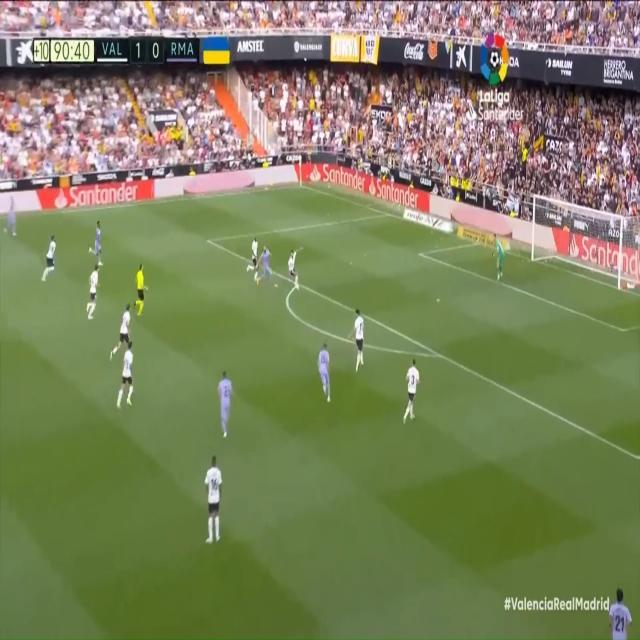goalkeeper: (492, 235, 505, 285)
player: (197, 449, 221, 543), (107, 297, 135, 365), (115, 341, 139, 412), (215, 368, 235, 448), (400, 359, 422, 425), (608, 586, 634, 640), (315, 335, 332, 407), (84, 259, 102, 325), (39, 230, 58, 290), (88, 209, 106, 272), (350, 307, 365, 373), (5, 192, 23, 246), (257, 244, 278, 290), (287, 248, 303, 292), (248, 236, 262, 279)
referee: (133, 258, 148, 319)
